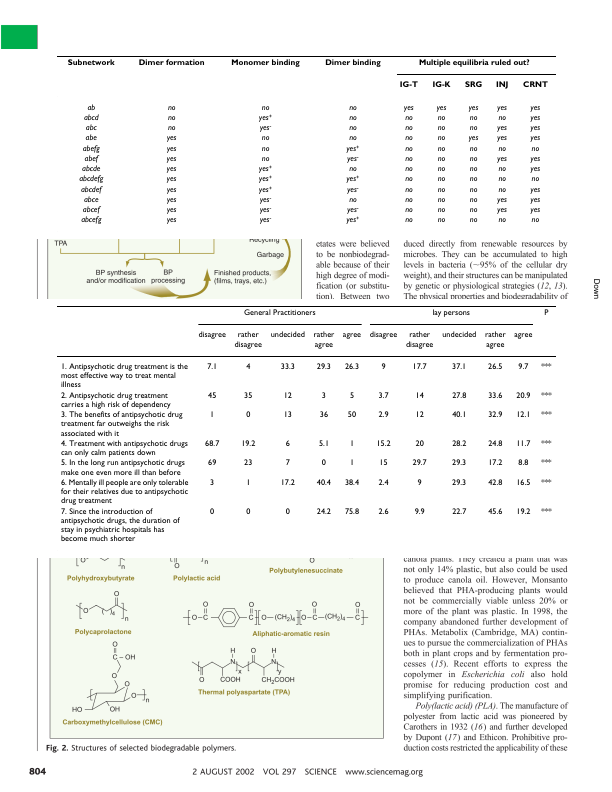borderless: (55, 304, 557, 552), (55, 54, 557, 233)
cell: (59, 507, 180, 544), (59, 478, 189, 506), (59, 362, 188, 390), (59, 410, 183, 439), (59, 458, 185, 478), (59, 439, 188, 458), (59, 391, 171, 410), (417, 59, 530, 68), (242, 308, 316, 318), (230, 59, 300, 68), (137, 59, 205, 68), (404, 331, 434, 350), (233, 331, 262, 350), (324, 59, 381, 68), (66, 59, 115, 68), (312, 331, 335, 350), (483, 331, 506, 350), (431, 308, 470, 318), (269, 331, 305, 340), (441, 331, 477, 340), (368, 331, 398, 340), (197, 331, 226, 340), (522, 81, 548, 90), (78, 175, 104, 184), (79, 185, 102, 195), (80, 216, 102, 225), (81, 144, 100, 154), (341, 331, 362, 340), (513, 331, 533, 340), (398, 81, 418, 90), (431, 81, 451, 90), (463, 81, 483, 90), (81, 165, 101, 174), (81, 206, 100, 215), (343, 478, 360, 488), (343, 507, 360, 517), (82, 113, 99, 123), (82, 195, 99, 205), (279, 362, 295, 372), (315, 362, 331, 372), (343, 362, 359, 372), (411, 362, 427, 372), (451, 362, 467, 372), (487, 362, 503, 372), (451, 391, 467, 401), (487, 391, 503, 401), (515, 391, 531, 401), (451, 410, 467, 420), (487, 410, 503, 420), (515, 410, 531, 420), (204, 439, 220, 449), (240, 439, 256, 449), (375, 439, 391, 449), (451, 439, 467, 449), (487, 439, 503, 449), (515, 439, 531, 449), (411, 458, 427, 468), (451, 458, 467, 468), (487, 458, 503, 468), (279, 478, 295, 488), (315, 478, 331, 488), (451, 478, 467, 488), (487, 478, 503, 488), (515, 478, 531, 488), (315, 507, 331, 517), (451, 507, 467, 517), (487, 507, 503, 517), (515, 507, 531, 517), (83, 154, 99, 164), (258, 113, 273, 123), (345, 144, 360, 154), (258, 185, 273, 195), (258, 195, 272, 205), (494, 81, 509, 90), (258, 165, 273, 174), (258, 175, 273, 184), (345, 175, 360, 184), (345, 216, 360, 225), (346, 154, 359, 164), (346, 185, 359, 195), (258, 124, 272, 133), (258, 206, 272, 215), (258, 216, 272, 225), (206, 362, 218, 372), (517, 362, 529, 372), (540, 362, 552, 372), (377, 391, 389, 401), (540, 391, 552, 401), (377, 410, 389, 420), (540, 410, 552, 420), (317, 439, 329, 449), (540, 439, 552, 449), (517, 458, 529, 468), (540, 458, 552, 468), (377, 478, 389, 488), (540, 478, 552, 488), (377, 507, 389, 517), (413, 507, 425, 517), (540, 507, 552, 517), (435, 103, 447, 113), (467, 103, 479, 113), (529, 103, 541, 113), (529, 113, 541, 123), (165, 144, 177, 154), (165, 154, 177, 164), (529, 154, 541, 164), (165, 185, 177, 195), (529, 185, 541, 195), (165, 195, 177, 205), (529, 195, 541, 205), (84, 124, 97, 133), (84, 134, 97, 143), (346, 206, 359, 215), (318, 410, 329, 420), (346, 410, 357, 420), (403, 103, 414, 113), (496, 103, 507, 113), (496, 154, 507, 164), (496, 195, 507, 205), (529, 124, 541, 133), (165, 134, 177, 143), (467, 134, 479, 143), (529, 134, 541, 143), (165, 165, 177, 174), (529, 165, 541, 174), (165, 175, 177, 184), (165, 206, 177, 215), (529, 206, 541, 215), (165, 216, 177, 225), (207, 391, 217, 401), (243, 391, 253, 401), (282, 391, 292, 401), (414, 391, 424, 401), (282, 410, 292, 420), (414, 410, 424, 420), (414, 439, 424, 449), (207, 458, 217, 468), (243, 458, 253, 468), (378, 458, 388, 468), (86, 103, 96, 113), (166, 103, 176, 113), (260, 103, 270, 113), (166, 113, 176, 123), (436, 113, 446, 123), (468, 113, 478, 123), (260, 144, 270, 154), (436, 144, 446, 154), (468, 144, 478, 154), (530, 144, 540, 154), (260, 154, 270, 164), (436, 154, 446, 164), (468, 154, 478, 164), (436, 185, 446, 195), (468, 185, 478, 195), (436, 195, 446, 205), (468, 195, 478, 205), (496, 124, 507, 133), (496, 134, 507, 143), (496, 206, 507, 215), (348, 103, 357, 113), (348, 113, 357, 123), (404, 113, 413, 123), (497, 113, 506, 123), (166, 124, 176, 133), (436, 124, 446, 133), (468, 124, 478, 133), (260, 134, 270, 143), (436, 134, 446, 143), (404, 144, 413, 154), (497, 144, 506, 154), (404, 154, 413, 164), (436, 165, 446, 174), (468, 165, 478, 174), (436, 175, 446, 184), (468, 175, 478, 184), (530, 175, 540, 184), (404, 185, 413, 195), (497, 185, 506, 195), (348, 195, 357, 205), (404, 195, 413, 205), (436, 206, 446, 215), (468, 206, 478, 215), (436, 216, 446, 225), (468, 216, 478, 225), (530, 216, 540, 225), (348, 124, 357, 133), (404, 124, 413, 133), (348, 134, 357, 143), (404, 134, 413, 143), (348, 165, 357, 174), (404, 165, 413, 174), (497, 165, 506, 174), (404, 175, 413, 184), (497, 175, 506, 184), (404, 206, 413, 215), (404, 216, 413, 225), (497, 216, 506, 225), (348, 391, 355, 401), (348, 439, 355, 449), (348, 458, 355, 468), (543, 308, 549, 318), (245, 362, 251, 372), (380, 362, 386, 372), (320, 391, 326, 401), (209, 410, 215, 420), (245, 410, 251, 420), (284, 439, 290, 449), (284, 458, 290, 468), (320, 458, 326, 468), (209, 478, 215, 488), (245, 478, 251, 488), (416, 478, 422, 488), (209, 507, 215, 517), (245, 507, 251, 517), (284, 507, 290, 517)
